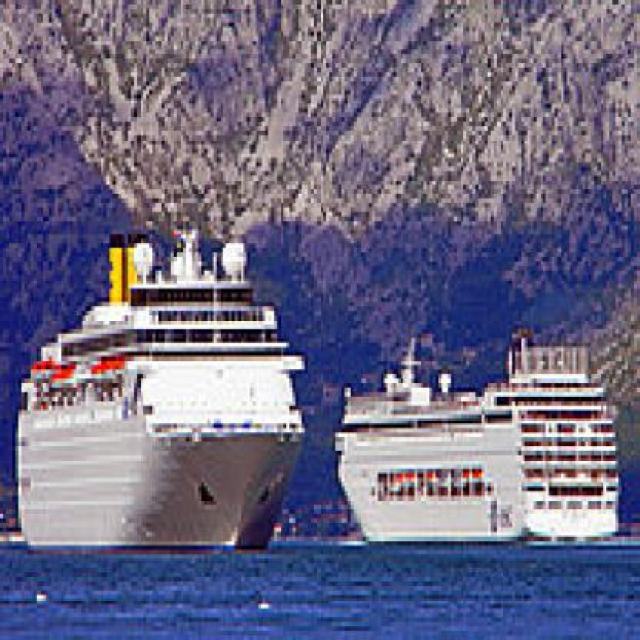cruise: (4, 222, 324, 569), (330, 326, 638, 578)
